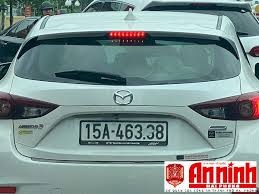Bien-so: (77, 120, 164, 147)
